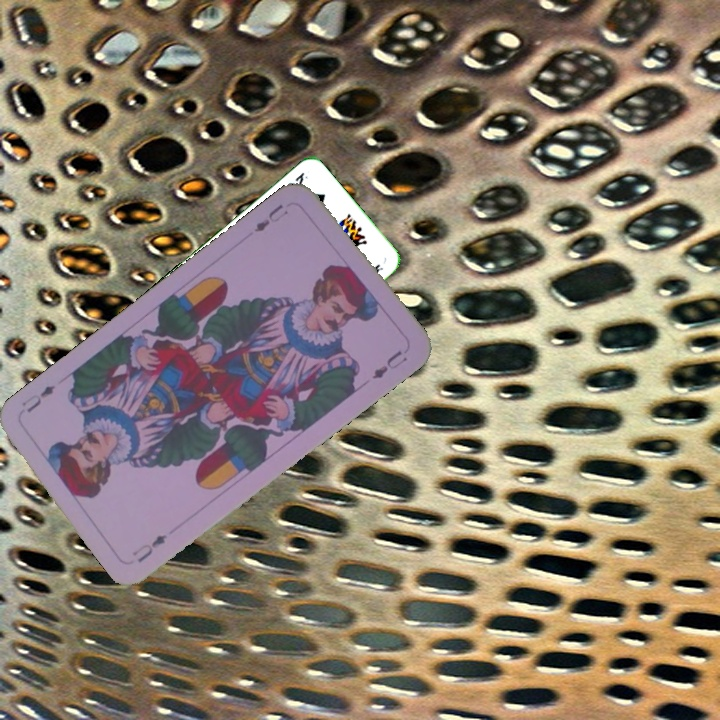EU: (249, 200, 291, 235), (128, 530, 170, 565)
